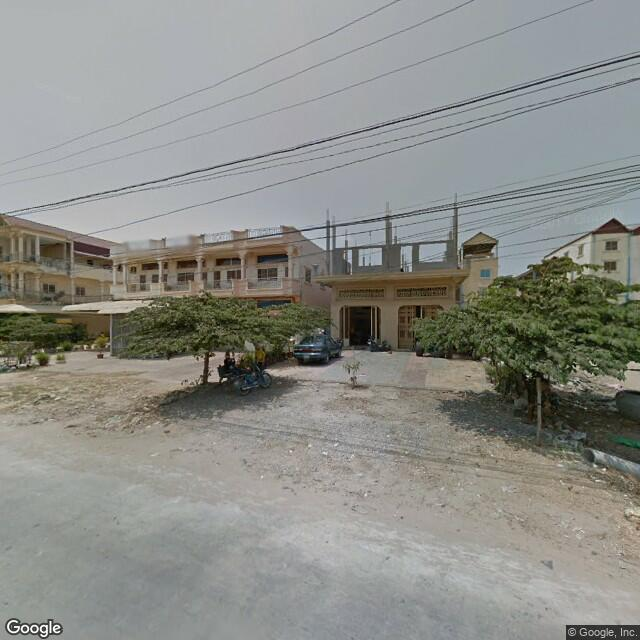litter: (33, 389, 76, 401)
